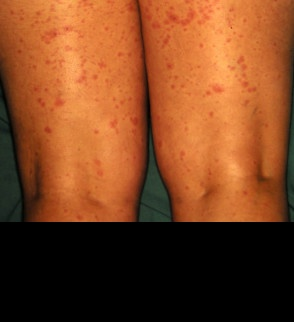SJS-TEN: (138, 0, 294, 220), (0, 0, 149, 223)
